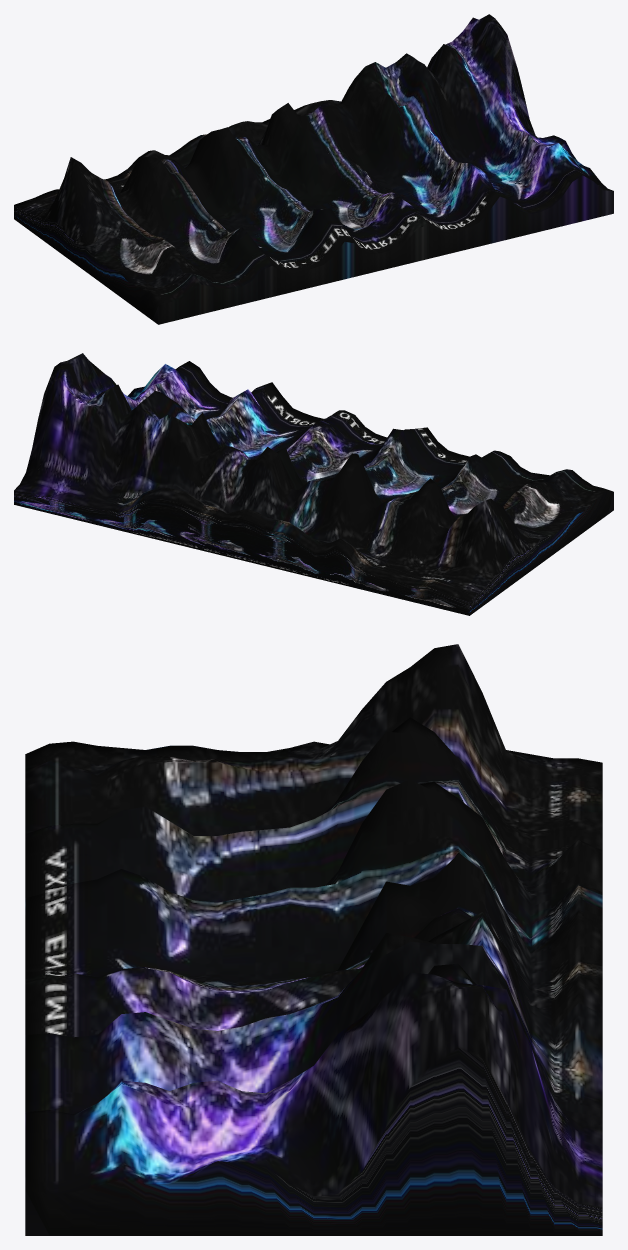
File: ARSENAL_Axe_6Tier.glb
3 views of the same model, one above another, from view 1: azimuth 30°, elevation 25°; view 2: azimuth 150°, elevation 25°; view 3: azimuth 270°, elevation 25° (orthographic). The views are drawn at different scales.
Parts seen in each view (by area): view 1: ARSENAL_Axe_6Tier; view 2: ARSENAL_Axe_6Tier; view 3: ARSENAL_Axe_6Tier.
Part boxes in pixels (x1,y1,x2,y2): ARSENAL_Axe_6Tier: (14, 14, 613, 324); ARSENAL_Axe_6Tier: (14, 353, 613, 615); ARSENAL_Axe_6Tier: (25, 644, 602, 1235).
Bounding box in the file's own units: 2 × 0.51 × 1.1.
1 material, 1 textured.
